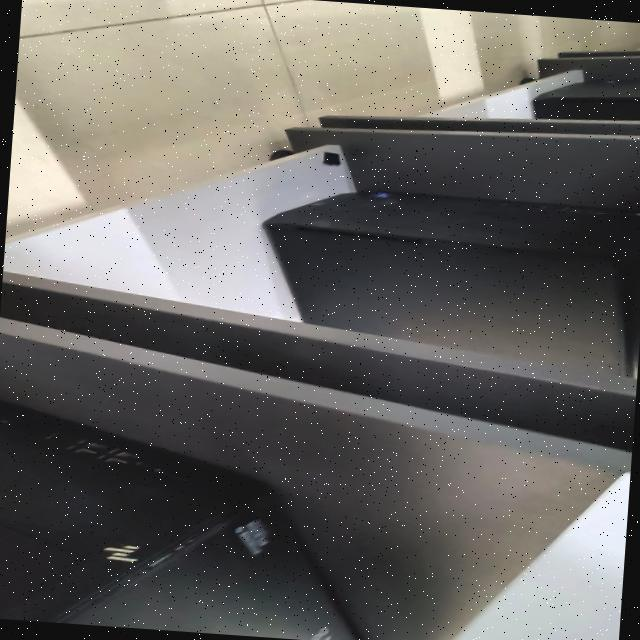Cpu: (0, 400, 359, 640), (264, 190, 640, 377), (533, 80, 640, 120)
